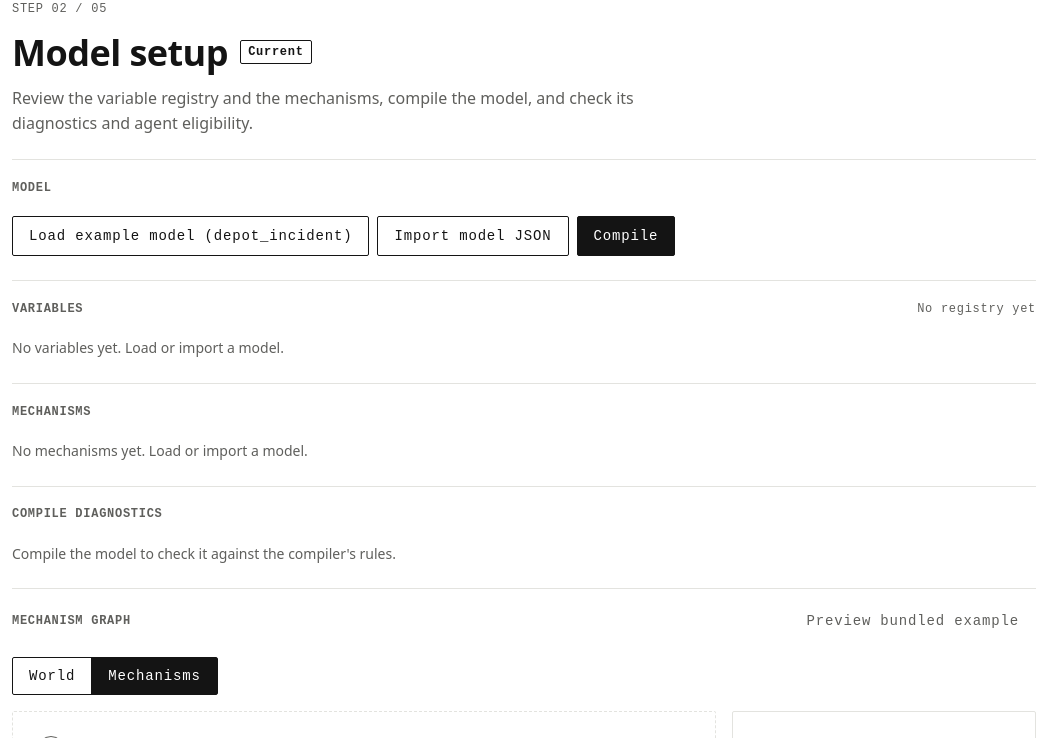
Test case: Step2ModelSetup › loads the step-1 example's model, then lists variables and mechanisms with ports in order
The width and height of the screenshot is (1048, 738).
expect the text "No variables yet. Load or import a model." is shown: met, box x1=12 y1=338 x2=284 y2=357
Click the button with test id "load-example-model".
click(191, 236)  # box x1=12 y1=216 x2=370 y2=256
(page scrolled)
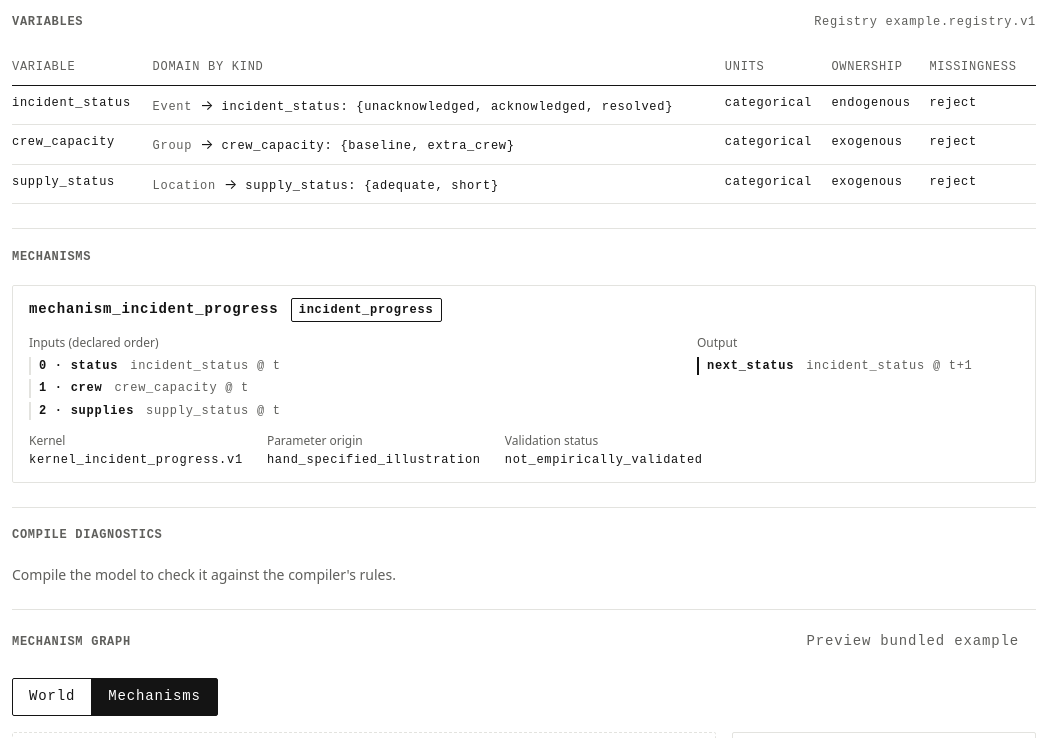
expect the text with test id "registry-version" shows "example.registry.v1": met, box x1=814 y1=15 x2=1036 y2=29
expect the row with test id "variable-row" shows "Event": met, box x1=153 y1=100 x2=192 y2=114
expect the row with test id "variable-row" shows "{unacknowledged, acknowledged, resolved}": met, box x1=222 y1=100 x2=673 y2=114
